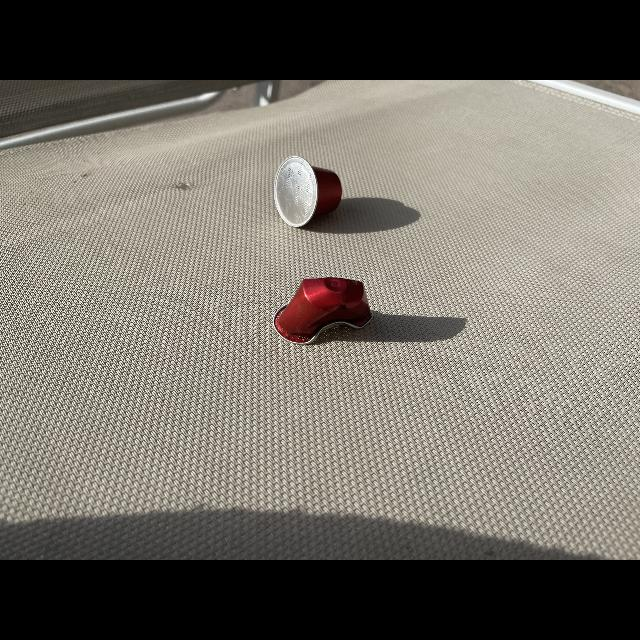damaged_capsule: (270, 273, 378, 349)
intact_capsule: (270, 153, 346, 231)
